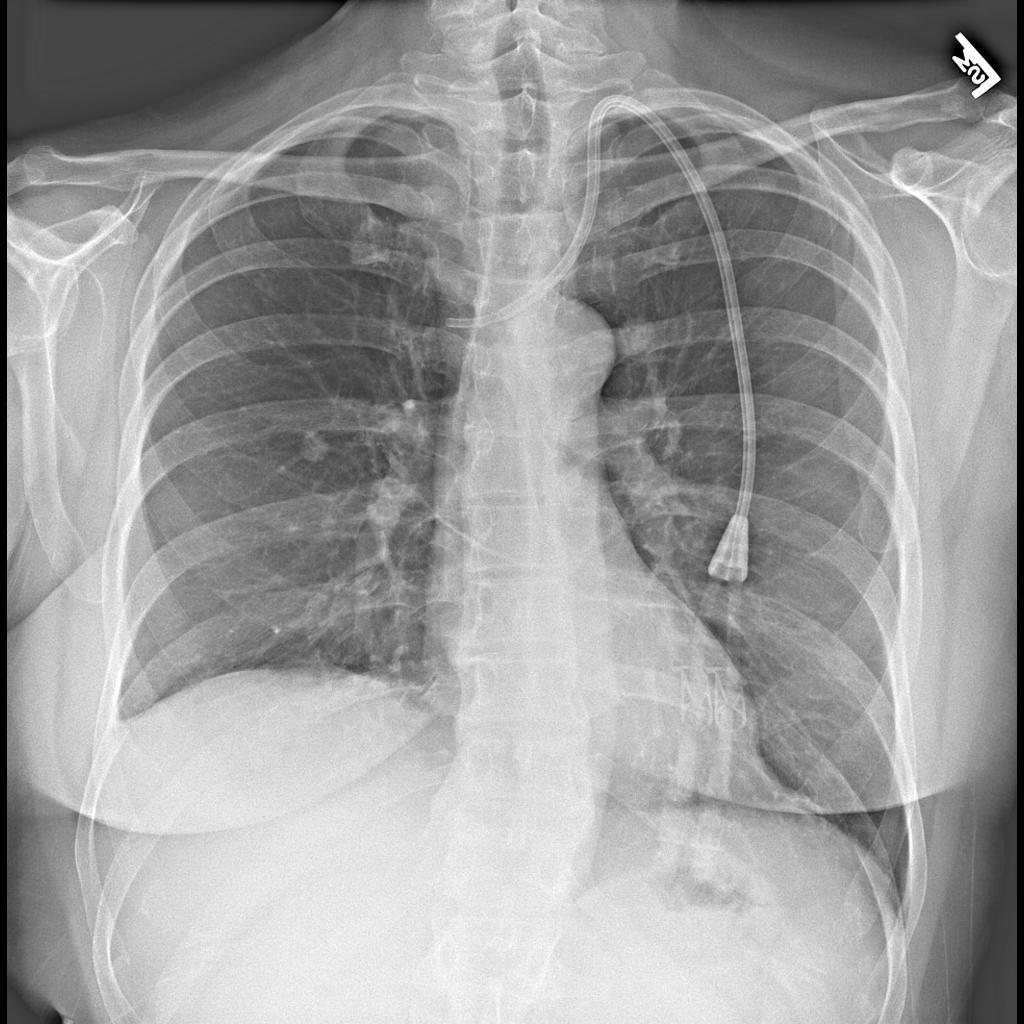Nodule: (291, 430, 335, 473)
